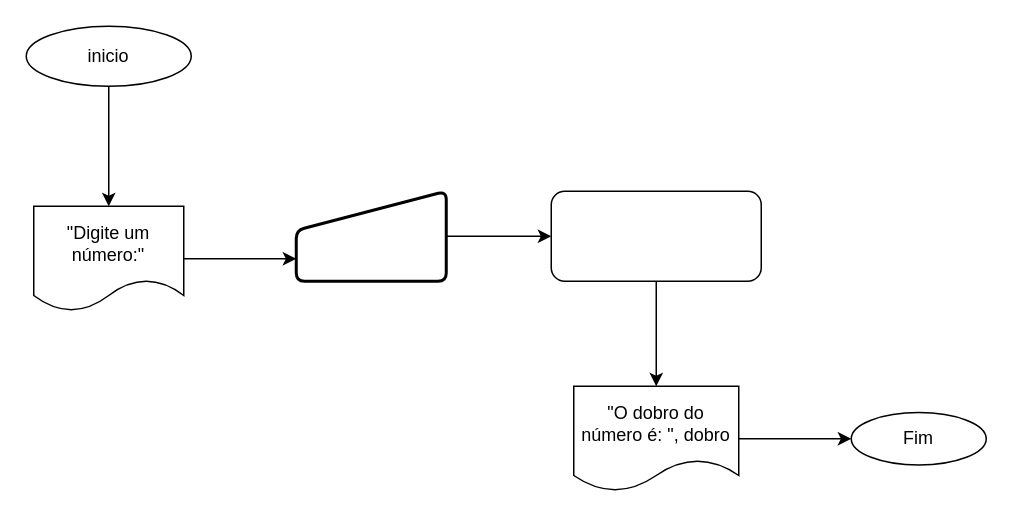
Some shapes in this 1013 by 518 pixel diagram are drawn without their labels. The shapes that lost their labels are listed below. From the top down, each one's centre as x and y in pixels, then its label:
At pixel 370 235: "numero".
At pixel 655 235: "dobro <- numero * 2".
